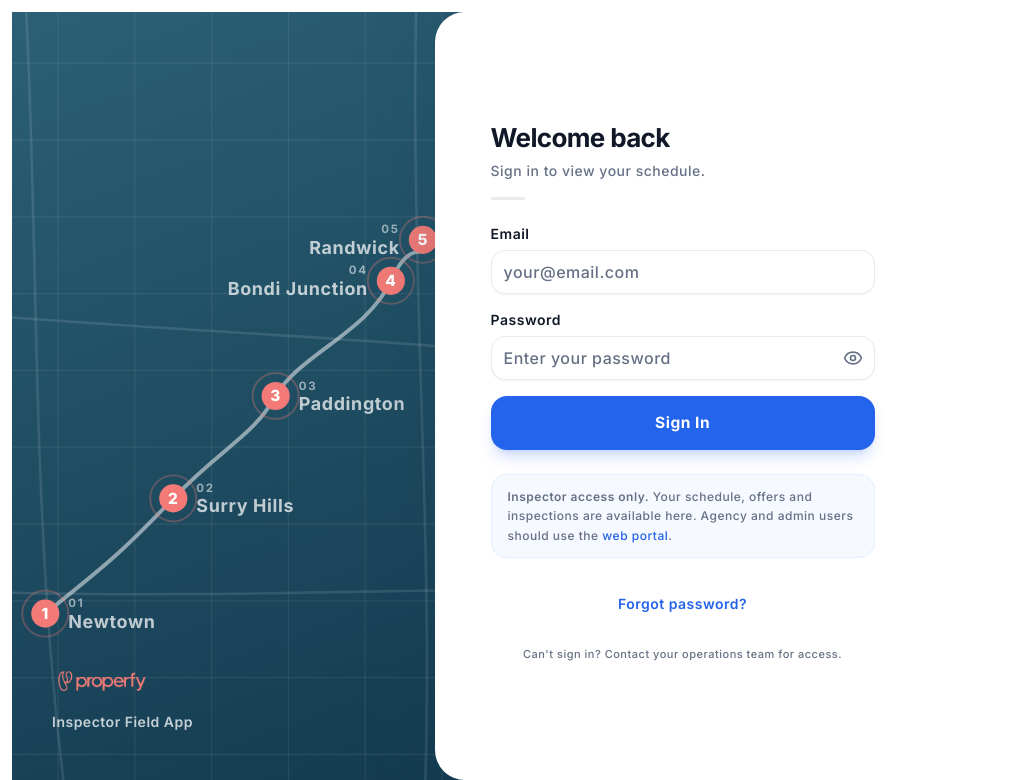
Test case: LoginPage › shows error on failed login
The image size is (1036, 780).
Type "wrong@test.com" into the field with test id "email-input" at (682, 272), box x1=490 y1=250 x2=874 y2=294
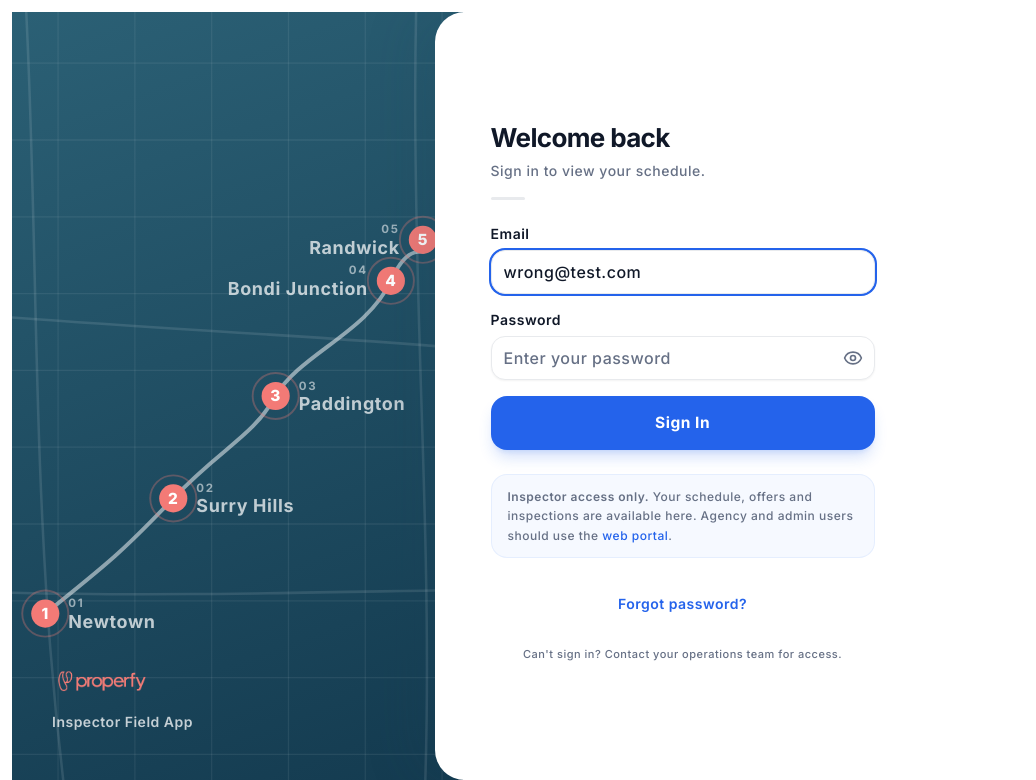
Type "wrong" into the password field with test id "password-input" at (682, 358), box x1=490 y1=336 x2=874 y2=380
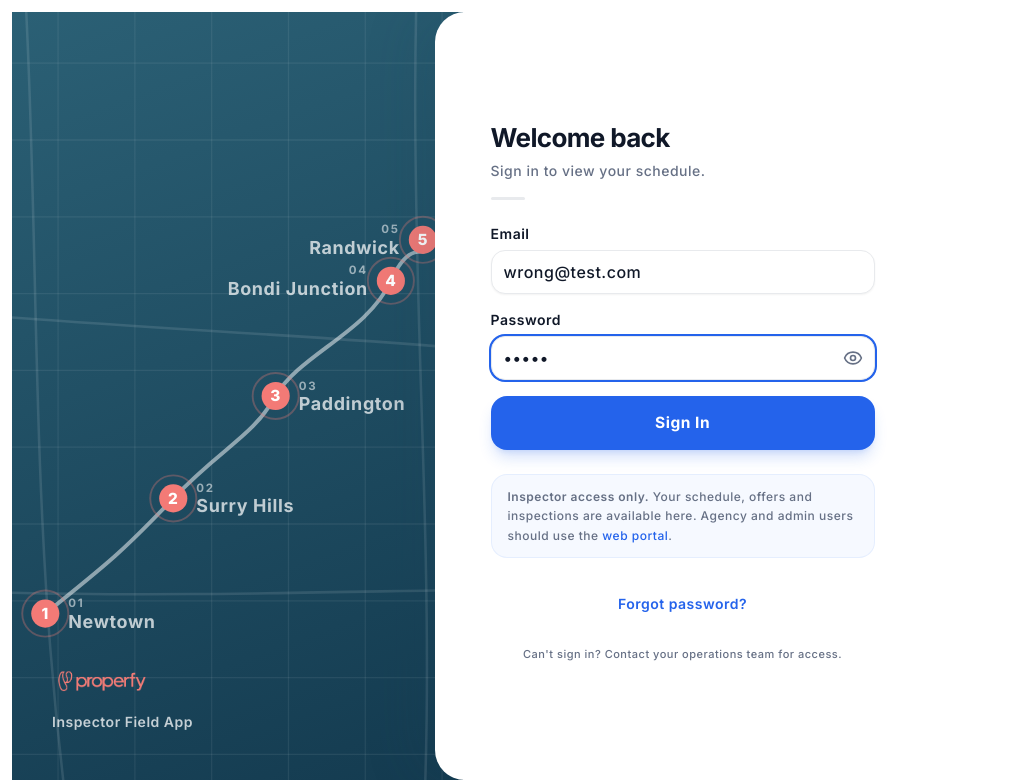
Click the button with test id "login-button" at (682, 422), box x1=490 y1=396 x2=874 y2=450
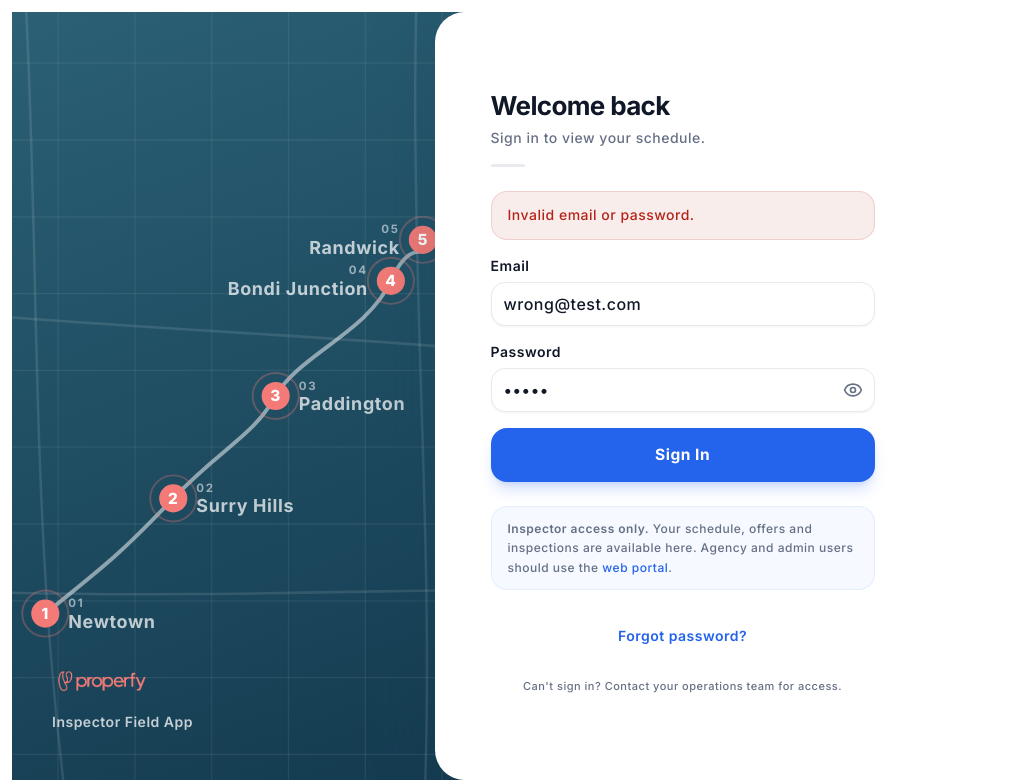
Expected: the text "Invalid email or password." is shown, x1=490 y1=191 x2=874 y2=240
